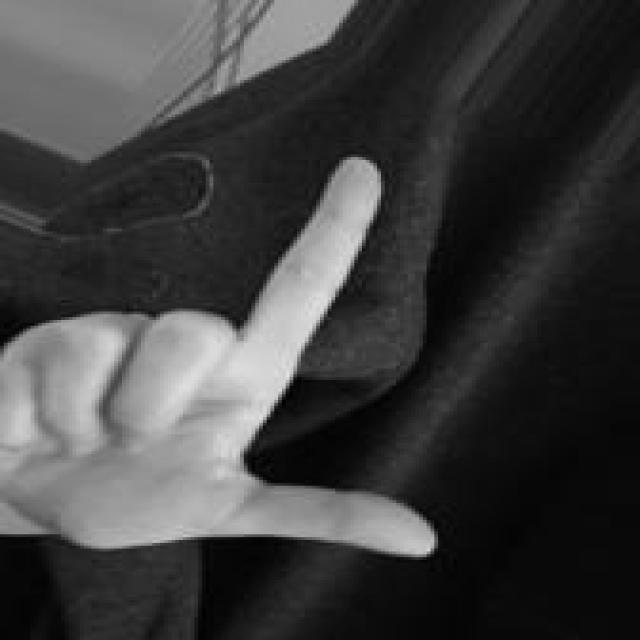L: (0, 148, 447, 577)
